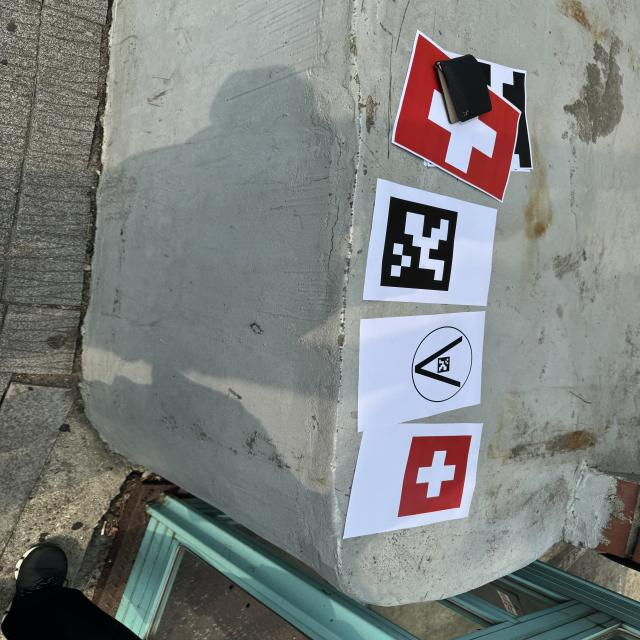ArUro mark: (381, 197, 457, 290)
rescue point: (397, 436, 473, 517)
vertiport: (408, 324, 474, 404)
